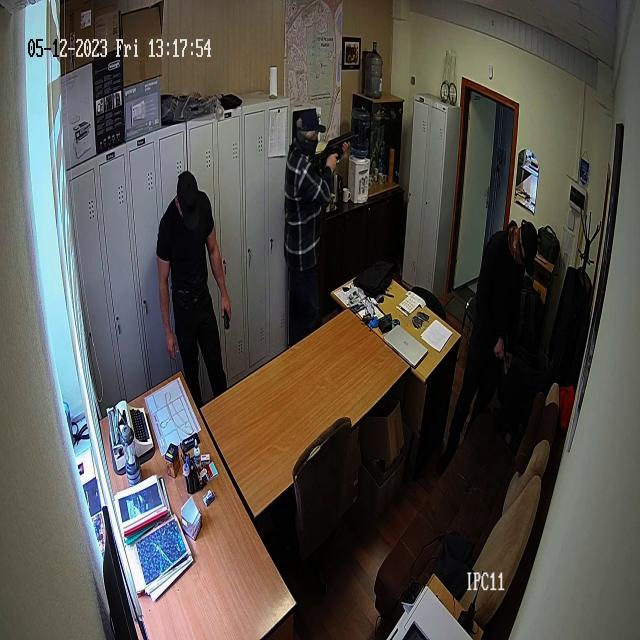gun: (438, 217, 541, 474), (282, 108, 360, 339), (157, 169, 232, 409), (309, 130, 359, 172)
